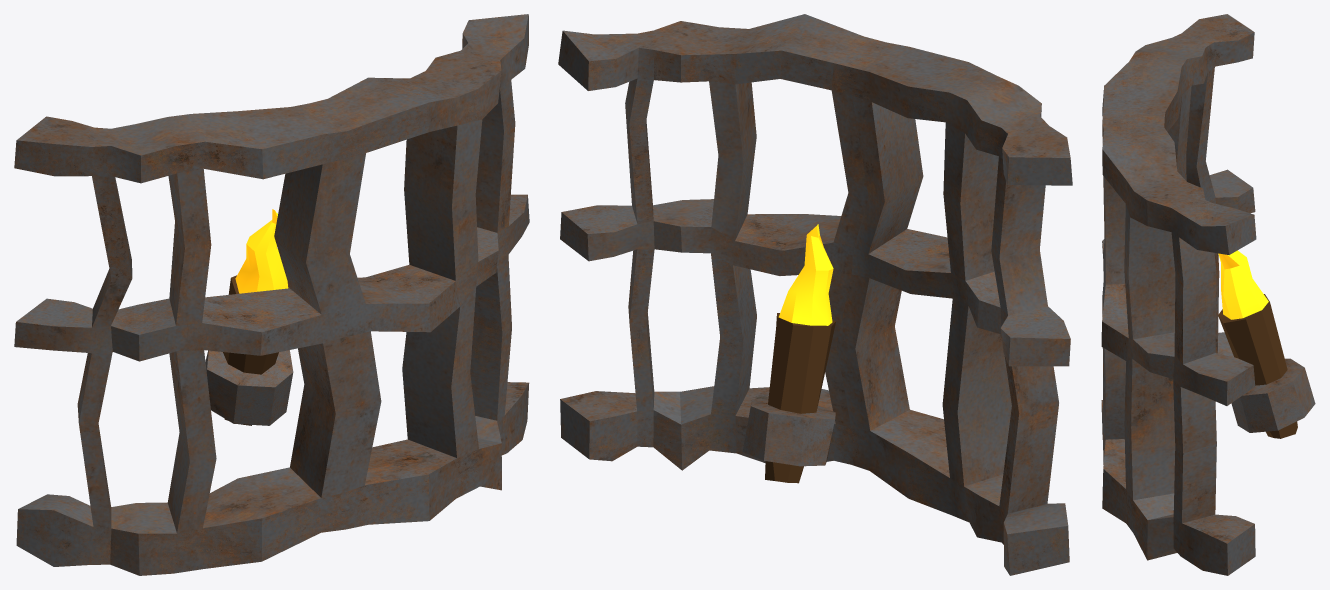
File: ColloseumLight 1.fbx
The picture shows the model from 3 angles, left to right: view 1: azimuth 30°, elevation 25°; view 2: azimuth 150°, elevation 25°; view 3: azimuth 270°, elevation 25°; orthographic projection. The views are drawn at different scales.
Visible parts, largest first — view 1: MetalFence; view 2: MetalFence; view 3: MetalFence.
Boxes of the visible parts, x1,y1,x2,y2 form: MetalFence: (14, 14, 529, 575); MetalFence: (558, 14, 1072, 575); MetalFence: (1101, 14, 1315, 575).
Size of the model in its own units: 299 by 240 by 125.
